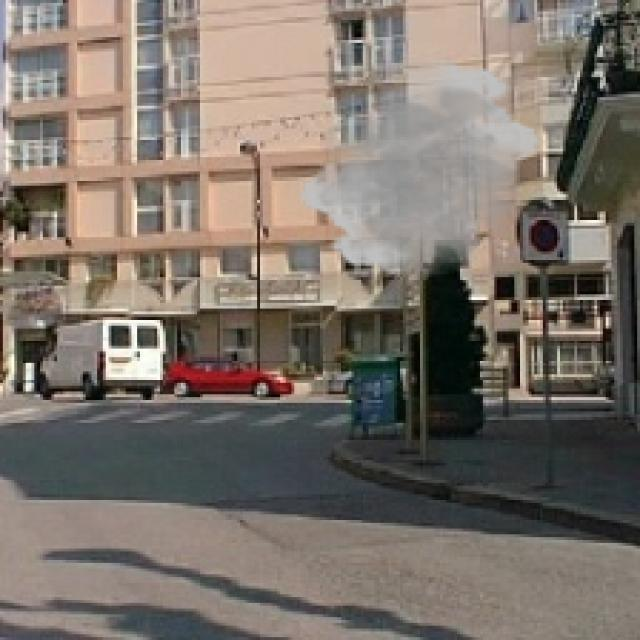smoke: (297, 54, 543, 280)
